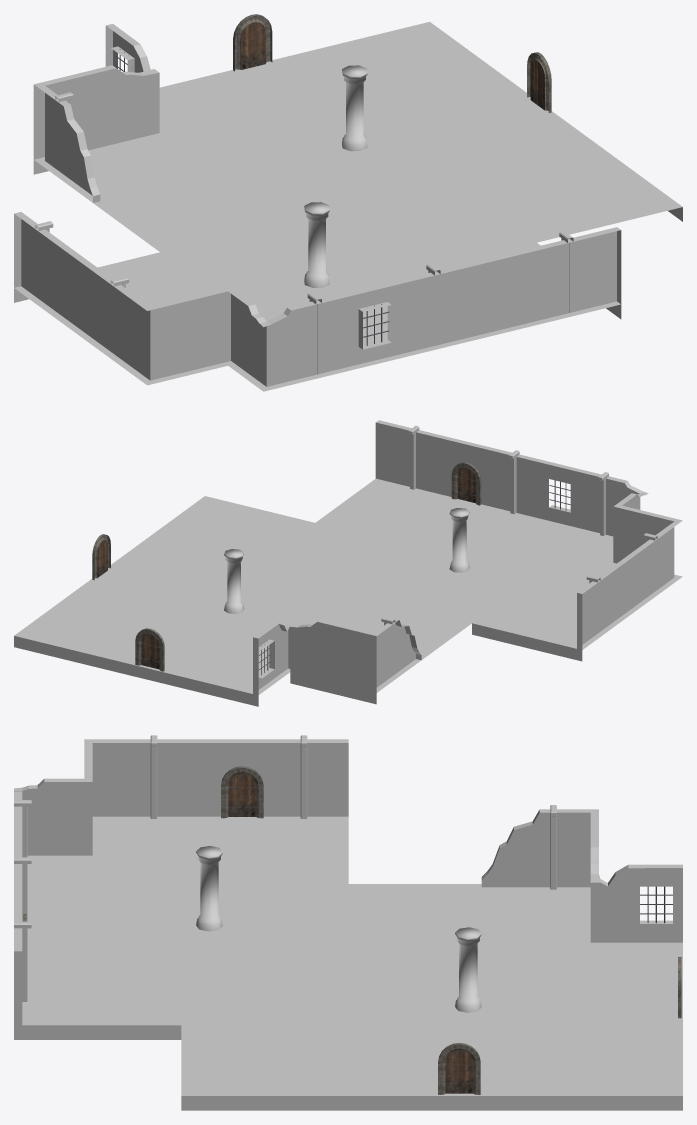
The model's file is def001_room.fbx.
The picture shows the model from 3 angles, top to bottom: view 1: azimuth 30°, elevation 25°; view 2: azimuth 150°, elevation 25°; view 3: azimuth 270°, elevation 25°; orthographic projection. The views are drawn at different scales.
Visible parts, largest first — view 1: def001_floor, wall001_3, pillar_002.008, pillar_002.002, def001_door_wood_3, def001_door_stone_3, def001_door_stone_4, def001_door_wood_4; view 2: def001_floor, wall001_3, pillar_002.002, pillar_002.008, def001_door_wood_3, def001_door_wood_1, def001_door_stone_3, def001_door_stone_1, pillar_001.002; view 3: def001_floor, wall001_3, pillar_002.008, pillar_002.002, def001_door_wood_4, def001_door_wood_2, def001_door_stone_2, def001_door_stone_4, pillar_001.004, pillar_001.005, pillar_001.006, pillar_001.001.
Boxes of the visible parts, box(x1,y1,x2,y2) form: def001_floor: box(14, 22, 682, 391); wall001_3: box(14, 24, 621, 386); pillar_002.008: box(342, 65, 367, 151); pillar_002.002: box(304, 202, 329, 287); def001_door_wood_3: box(241, 22, 265, 69); def001_door_stone_3: box(233, 14, 272, 71); def001_door_stone_4: box(527, 52, 551, 112); def001_door_wood_4: box(530, 60, 544, 110); def001_floor: box(14, 478, 682, 706); wall001_3: box(253, 420, 682, 695); pillar_002.002: box(449, 508, 469, 572); pillar_002.008: box(224, 549, 243, 613); def001_door_wood_3: box(141, 634, 159, 669); def001_door_wood_1: box(457, 467, 475, 503); def001_door_stone_3: box(135, 628, 164, 671); def001_door_stone_1: box(451, 462, 481, 505); pillar_001.002: box(508, 450, 519, 514); def001_floor: box(14, 816, 682, 1110); wall001_3: box(14, 739, 682, 1025); pillar_002.008: box(455, 927, 481, 1012); pillar_002.002: box(196, 846, 222, 931); def001_door_wood_4: box(445, 1050, 473, 1093); def001_door_wood_2: box(228, 773, 256, 816); def001_door_stone_2: box(221, 766, 263, 818); def001_door_stone_4: box(438, 1043, 480, 1094); pillar_001.004: box(150, 735, 157, 818); pillar_001.005: box(300, 735, 307, 818); pillar_001.006: box(550, 805, 556, 889); pillar_001.001: box(14, 921, 31, 1001).
Size of the model in its own units: 4057 by 629 by 4058.
